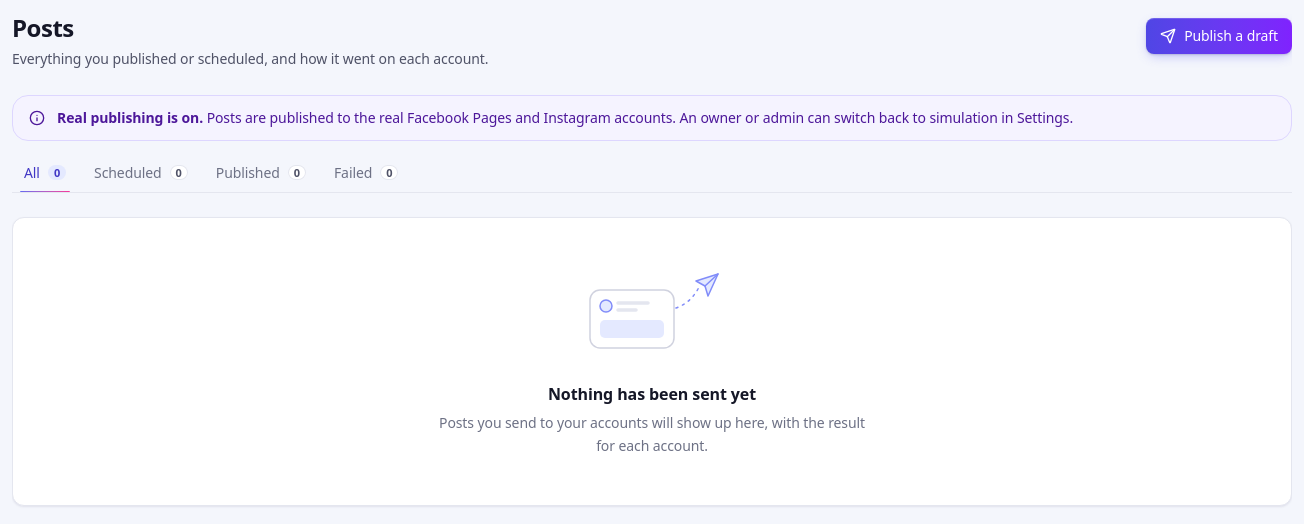
Scenario: job list › shows an empty state, with different words per tab
Expected: the heading "Nothing has been sent yet" is shown, [548,382,756,406]
Click the button "Failed 0". click: (366, 173)
box: [322,153,410,193]
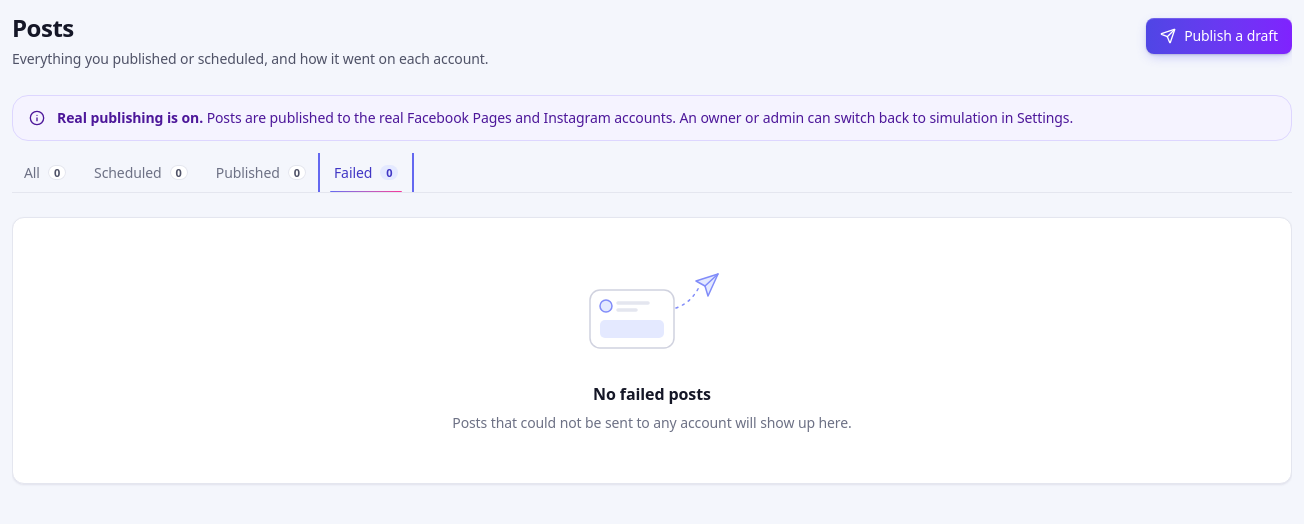
Result: the heading "No failed posts" is shown at [593,382,711,406]
